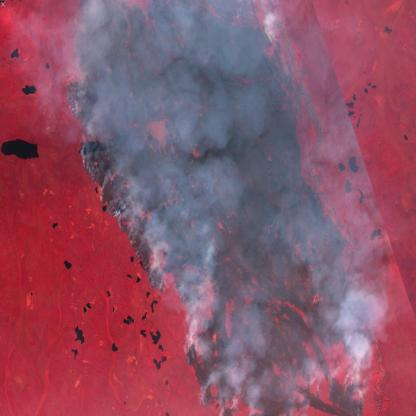fire: (63, 0, 379, 416)
